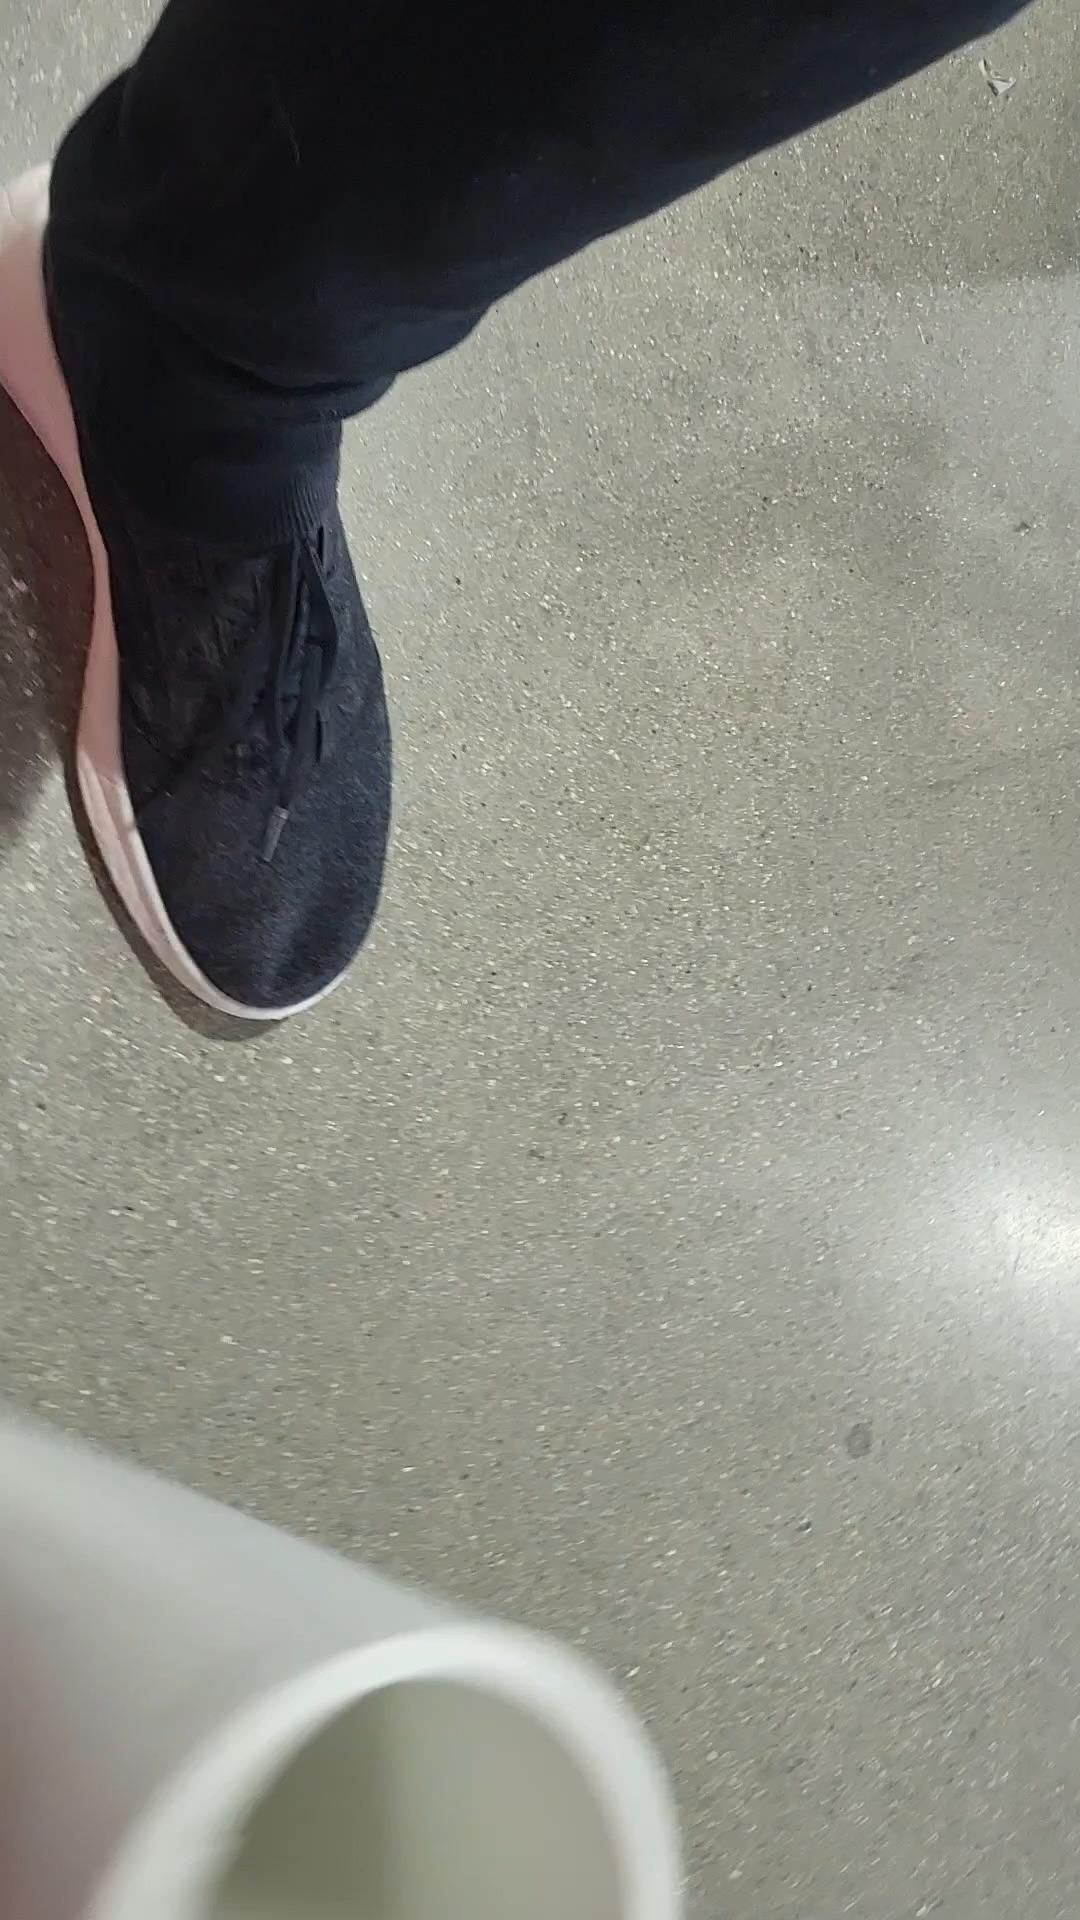coral: (0, 1385, 684, 1920)
